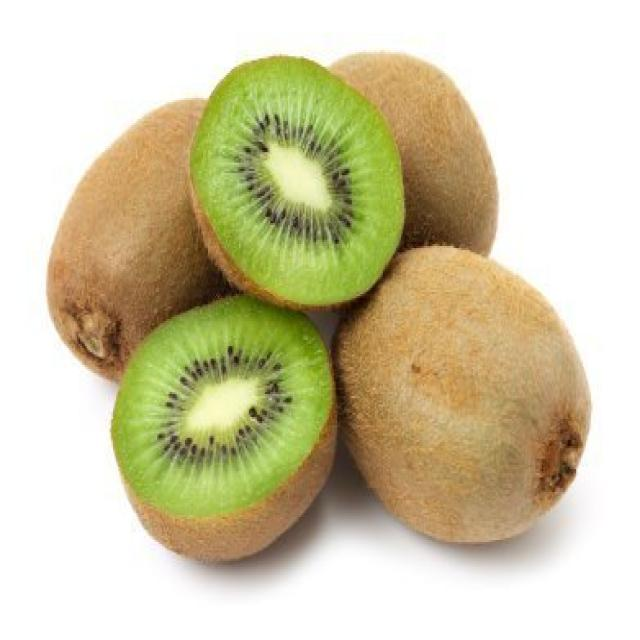kiwi: (339, 244, 593, 539), (107, 296, 340, 571), (45, 90, 254, 383), (185, 50, 404, 302), (320, 42, 504, 276)
